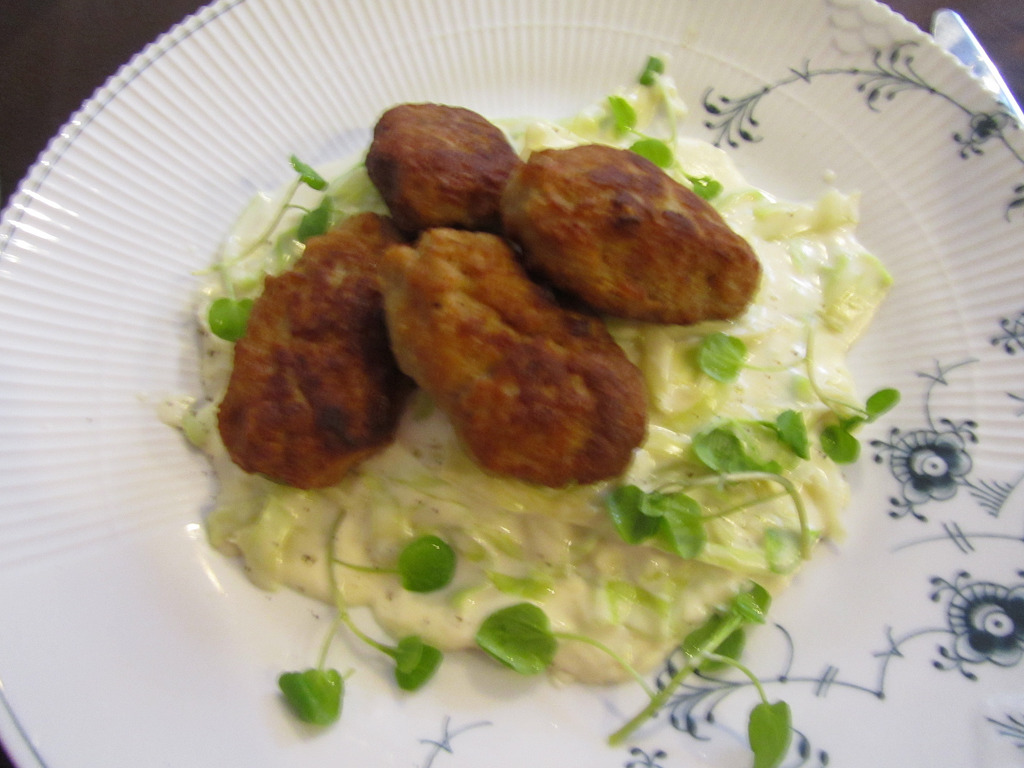meatballs: (383, 235, 653, 484), (221, 217, 420, 486), (516, 149, 761, 326), (370, 97, 510, 233)
